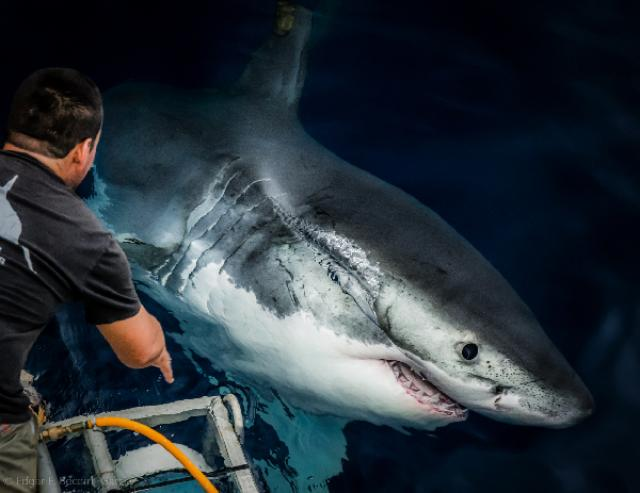Mulut: (355, 321, 513, 465)
